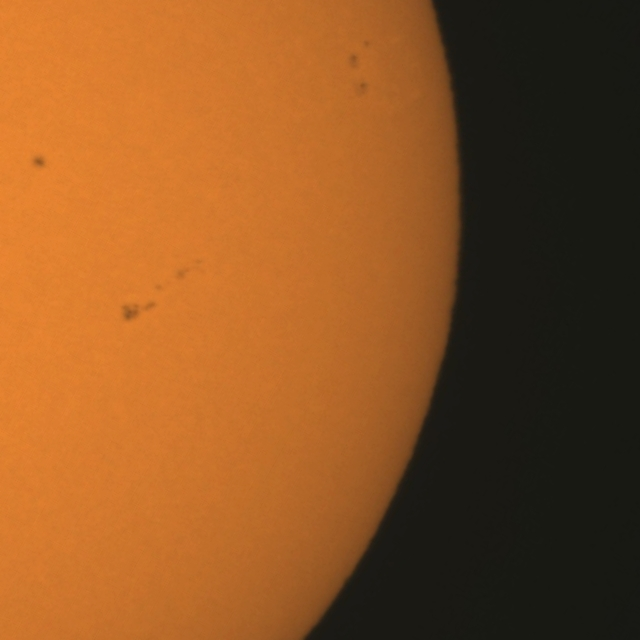sunspot: (118, 295, 160, 324), (347, 39, 371, 71), (31, 153, 48, 171), (347, 51, 361, 72), (358, 81, 370, 96)
